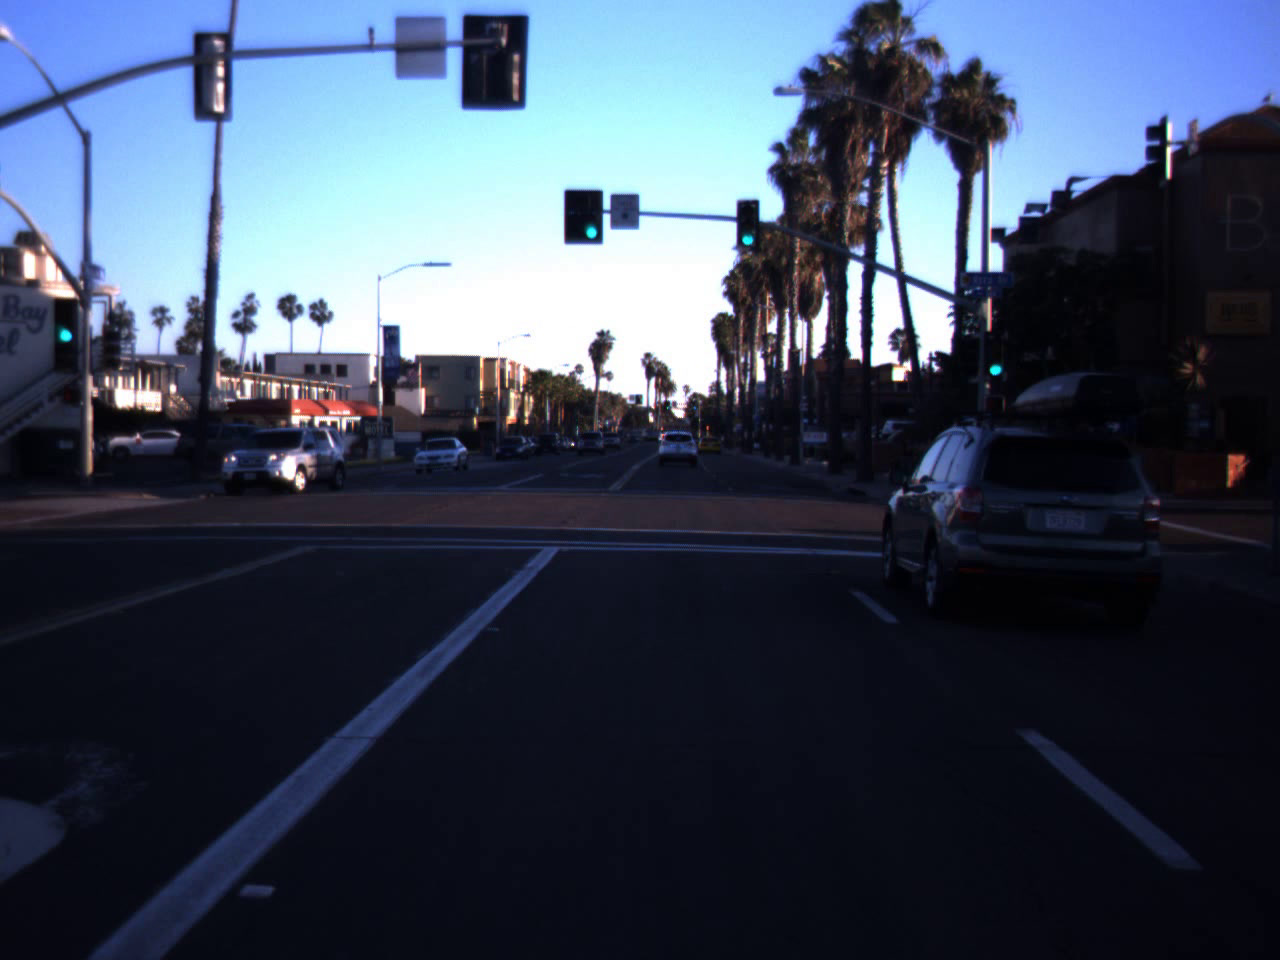go: (51, 295, 81, 345), (578, 193, 605, 243), (980, 338, 1010, 378), (734, 212, 761, 247)
